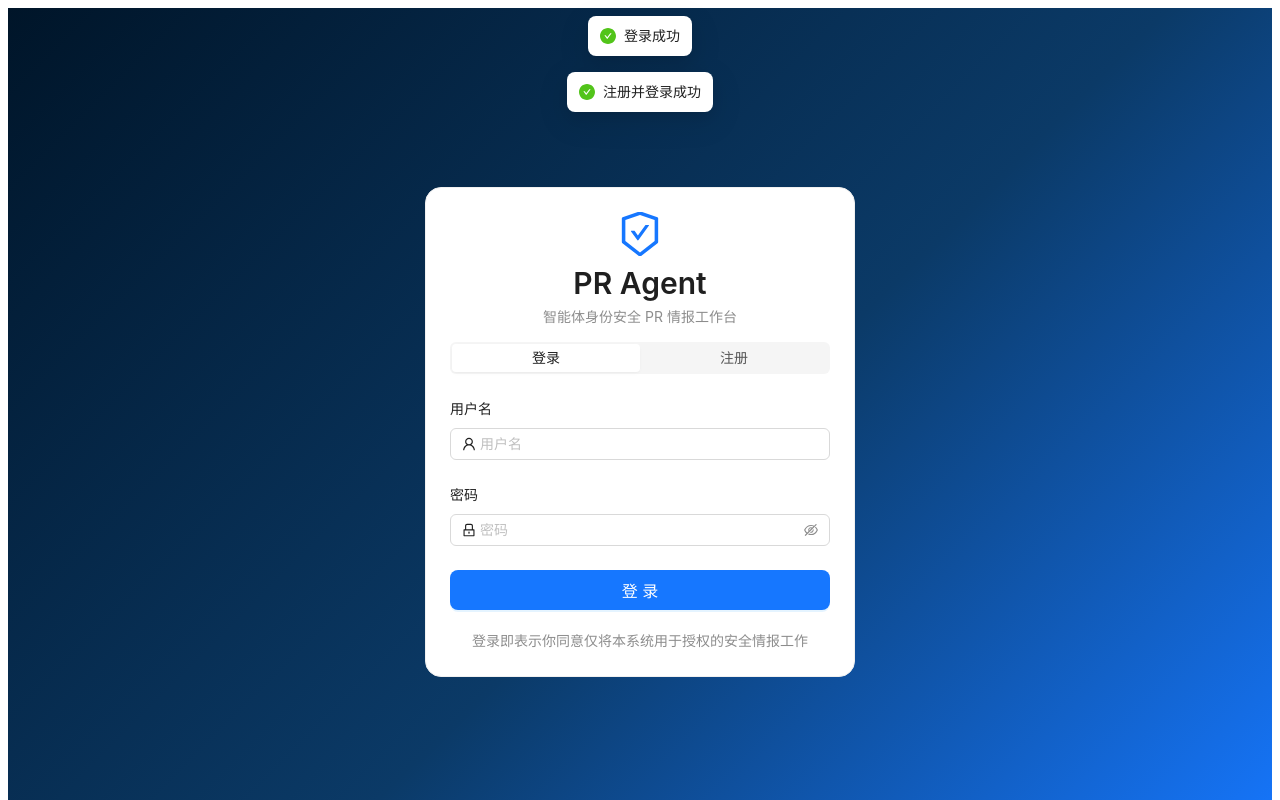
Test: LoginPage › shows the backend error message when login fails
In the field labelled "用户名": [649, 444] box [480,433,818,455], type "alice"
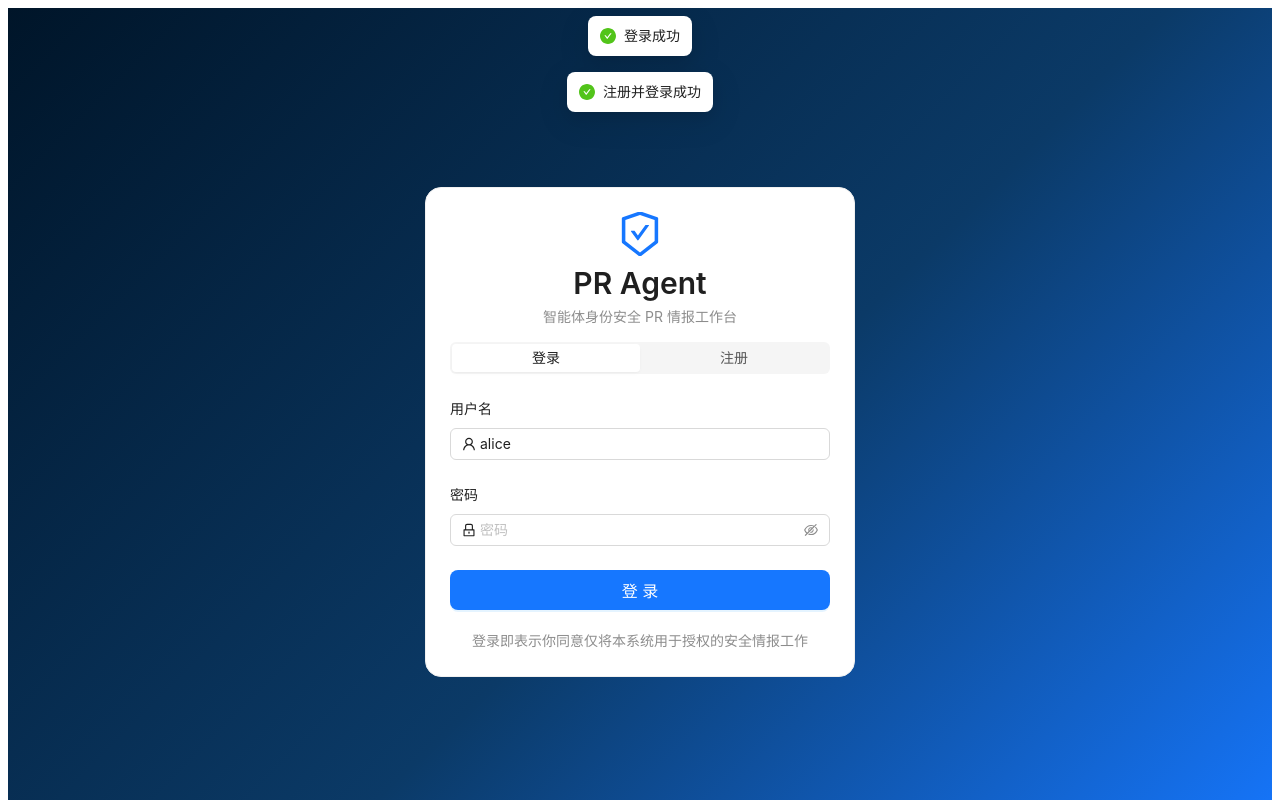
In the password field labelled "密码": [640, 530] box [480,519,800,541], type "wrong12"
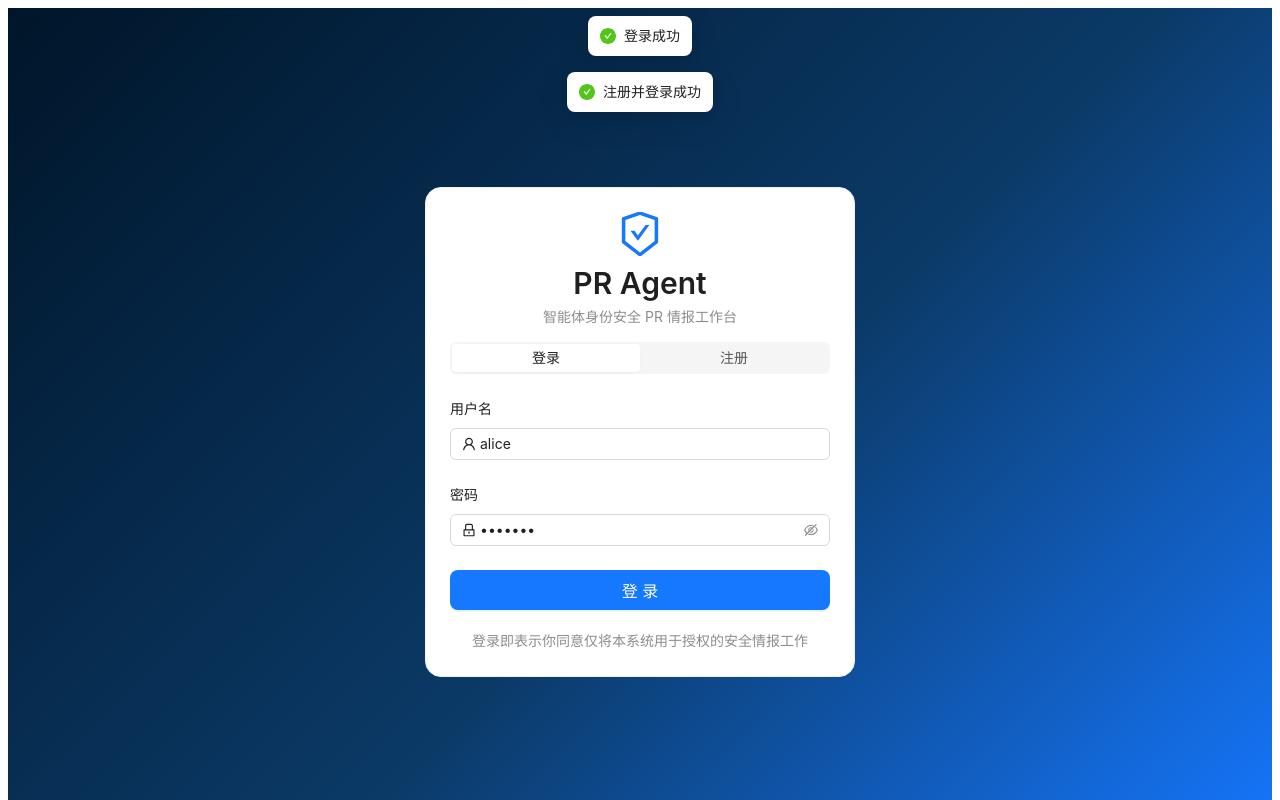
Click the submit button: [640, 590] box [450,570,830,610]
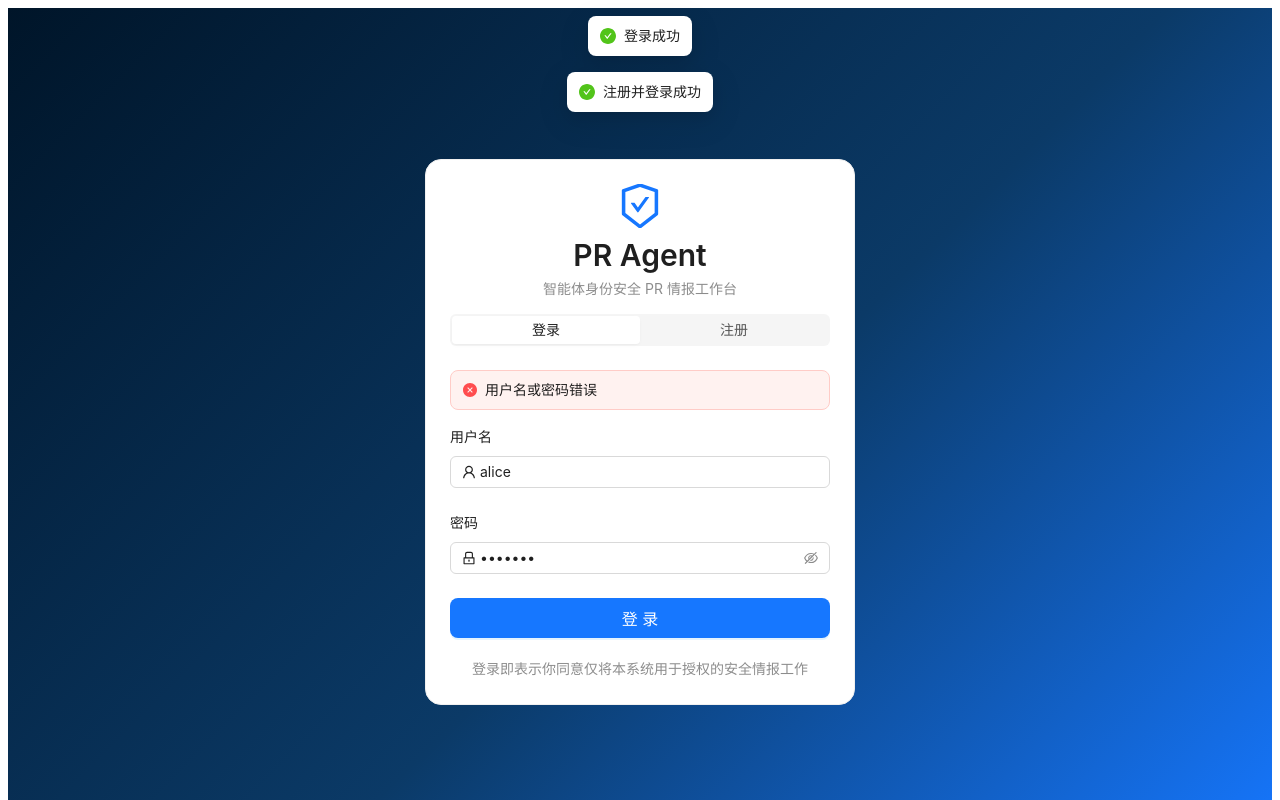
Expected: the text "用户名或密码错误" is shown, [485,381,597,398]
